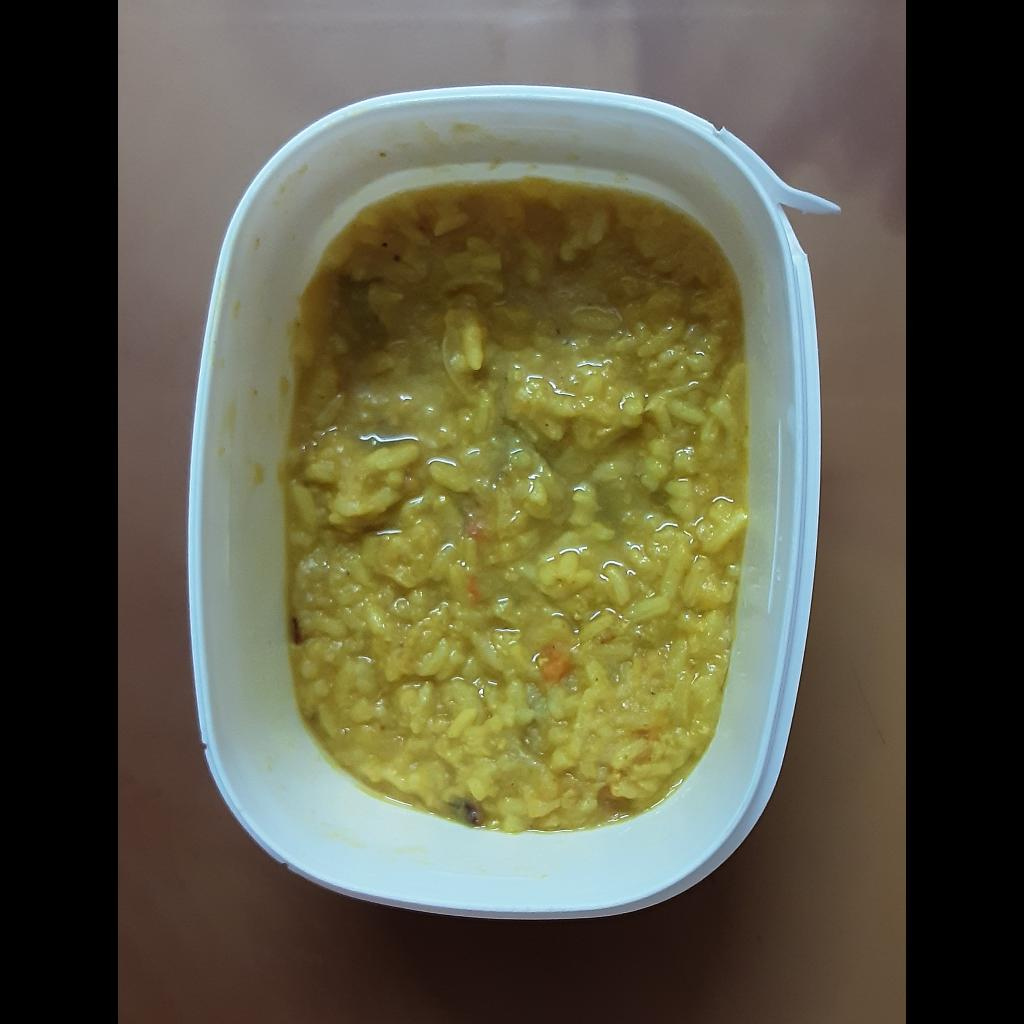khichuri: (277, 176, 752, 831)
